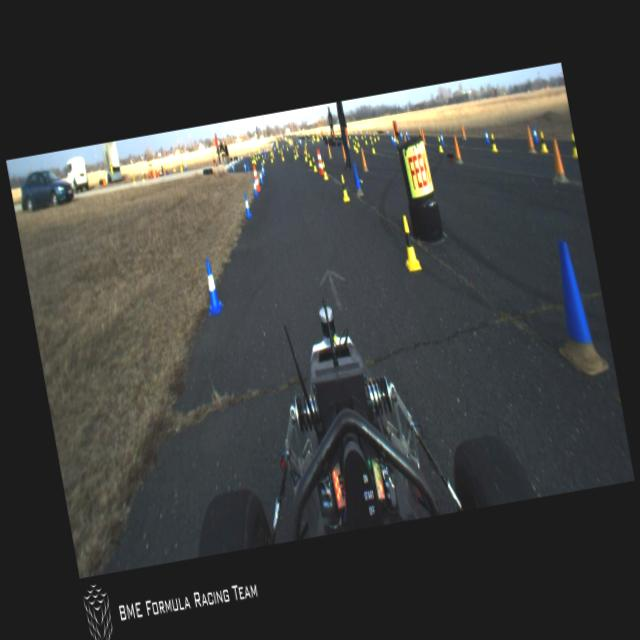blue_cone: (199, 258, 224, 318), (242, 193, 252, 218), (530, 125, 538, 144), (251, 177, 258, 197), (483, 128, 490, 144), (258, 168, 264, 184), (438, 130, 444, 146), (260, 164, 266, 177)
large_orange_cone: (252, 164, 260, 192), (314, 148, 322, 174), (316, 150, 324, 174)
yellow_cone: (396, 213, 422, 272), (339, 174, 350, 202), (538, 129, 548, 153), (568, 132, 577, 158), (488, 132, 497, 152), (321, 160, 328, 180), (436, 136, 444, 152), (302, 149, 308, 162), (370, 140, 376, 153), (306, 153, 312, 166), (312, 157, 316, 171), (354, 140, 358, 153), (352, 138, 356, 150), (363, 136, 368, 145), (292, 149, 296, 160), (372, 132, 376, 142), (375, 130, 379, 140), (260, 154, 264, 164), (368, 131, 372, 140), (280, 152, 284, 161), (356, 138, 360, 146), (253, 156, 256, 164), (270, 154, 272, 162)
